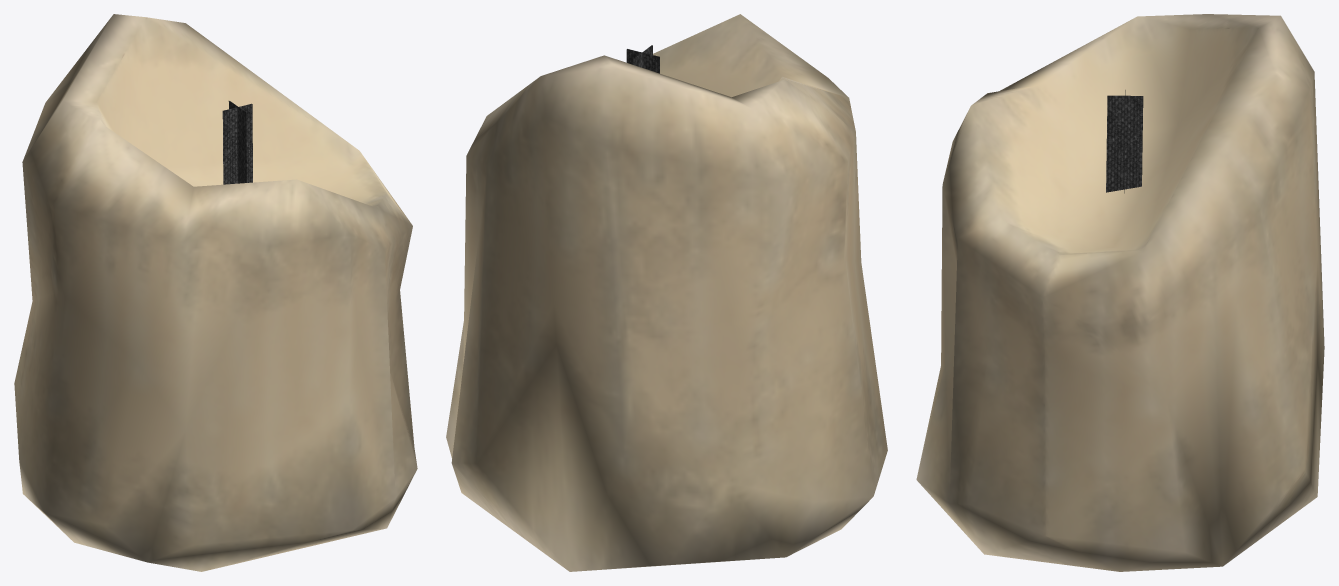
File: SM_Candle_05.fbx
The picture shows the model from 3 angles, left to right: view 1: azimuth 30°, elevation 25°; view 2: azimuth 150°, elevation 25°; view 3: azimuth 270°, elevation 25°; orthographic projection. The views are drawn at different scales.
Visible parts, largest first — view 1: SM_Candle_05_LOD0; view 2: SM_Candle_05_LOD0; view 3: SM_Candle_05_LOD0.
Part boxes in pixels (x1,y1,x2,y2): SM_Candle_05_LOD0: [14, 14, 417, 571]; SM_Candle_05_LOD0: [446, 14, 887, 571]; SM_Candle_05_LOD0: [916, 14, 1324, 571].
Size of the model in its own units: 9.9 by 9.42 by 11.96.
1 material, 1 textured.
